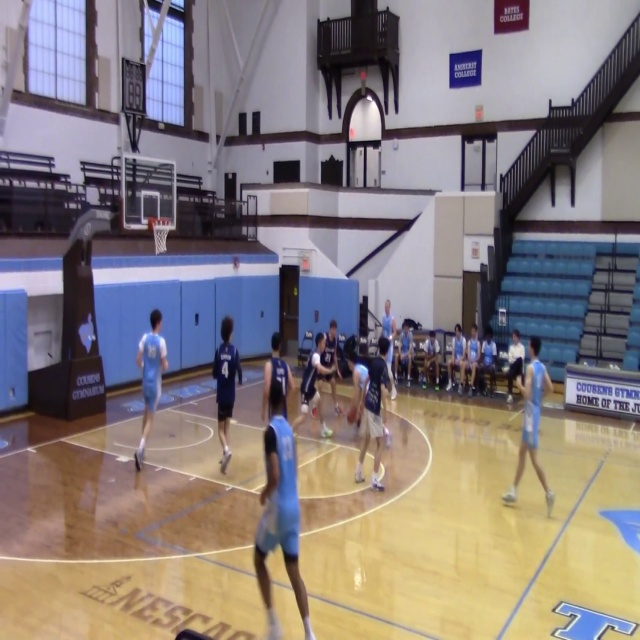Basketball: (347, 406, 358, 424)
